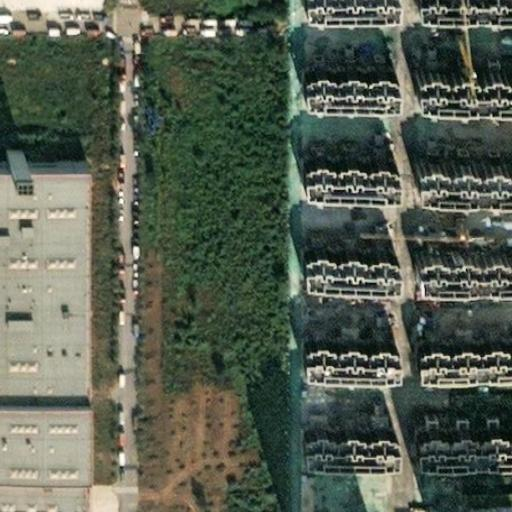building: (0, 409, 91, 511), (405, 134, 512, 176), (405, 226, 512, 268), (405, 45, 512, 86), (404, 324, 512, 356), (406, 417, 512, 448), (294, 237, 384, 271), (286, 327, 378, 359), (287, 414, 380, 445), (292, 156, 386, 175), (292, 65, 386, 84), (1, 144, 31, 185)
